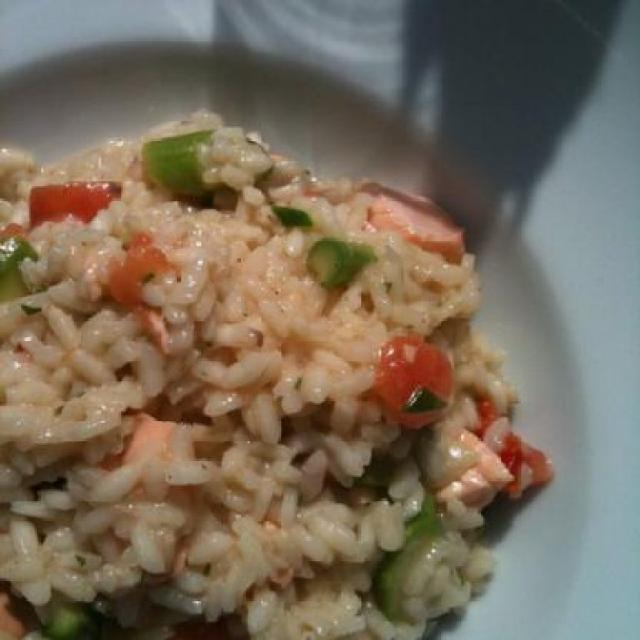Risotto: (18, 114, 520, 638)
